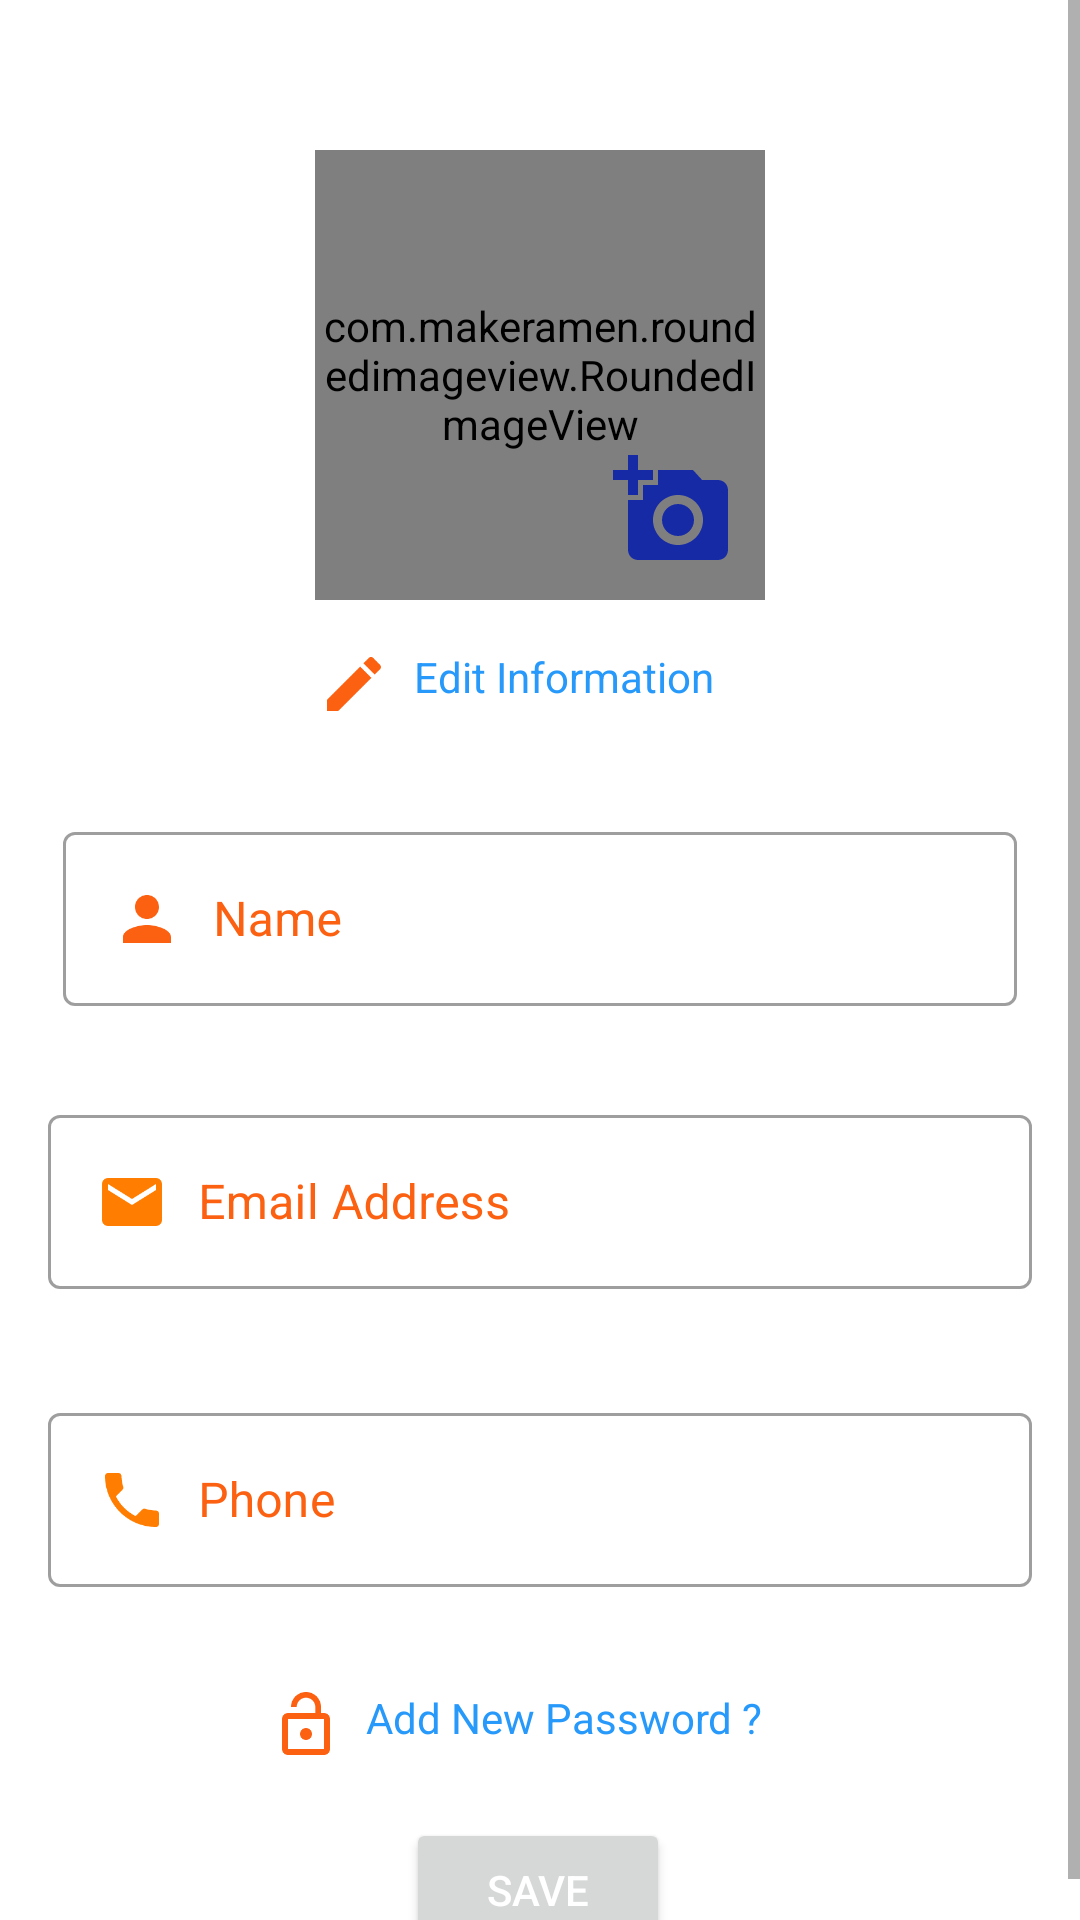

Where to tap for icons on this 1080x1920 app screen, as point (x, y):
add photo: point (670, 507)
lock open: point (306, 1723)
